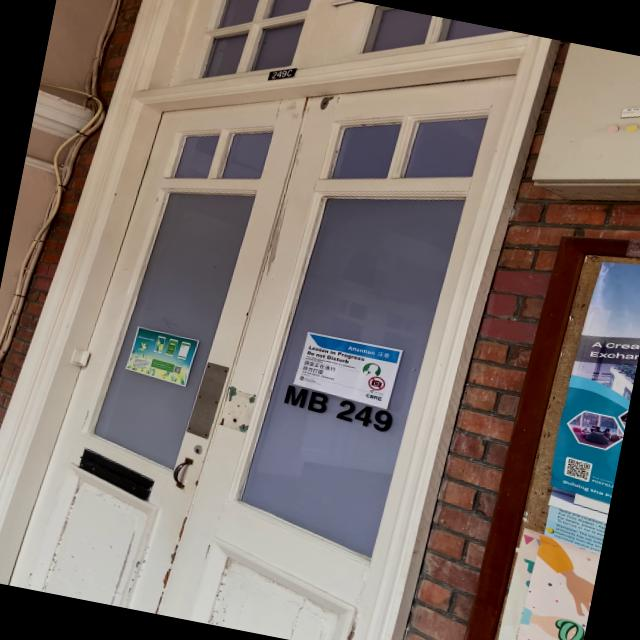room249c: (264, 62, 300, 88)
room249cWindow: (278, 381, 398, 437)
